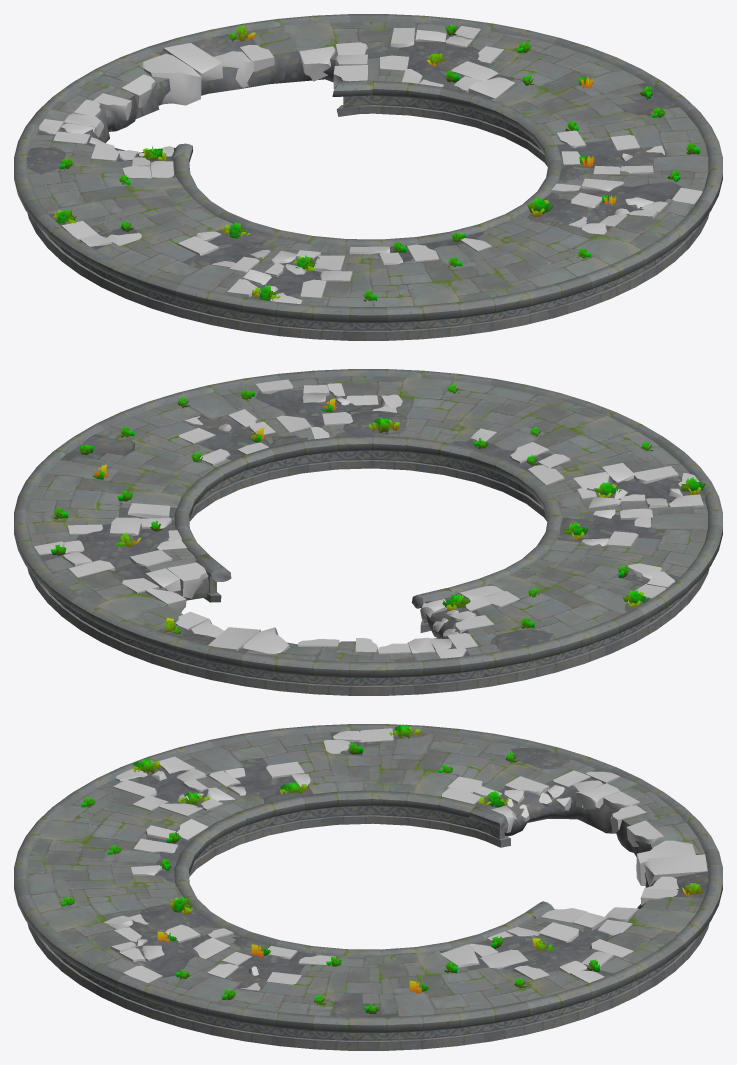
Rendered from Area_MdBuild_SdFloor02_Group.fbx.
3 views of the same model, one above another, from view 1: azimuth 30°, elevation 25°; view 2: azimuth 150°, elevation 25°; view 3: azimuth 270°, elevation 25° (orthographic).
Parts seen in each view (by area): view 1: Area_MdBuild_SdFloor02_Lod0; view 2: Area_MdBuild_SdFloor02_Lod0; view 3: Area_MdBuild_SdFloor02_Lod0.
Boxes of the visible parts, x1,y1,x2,y2 form: Area_MdBuild_SdFloor02_Lod0: [14, 14, 722, 340]; Area_MdBuild_SdFloor02_Lod0: [14, 369, 722, 695]; Area_MdBuild_SdFloor02_Lod0: [14, 724, 722, 1050].
Size of the model in its own units: 36.56 by 2.65 by 36.56.
